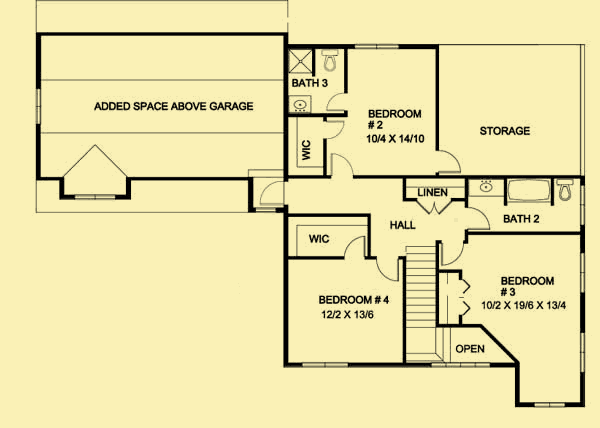door: (432, 146, 466, 177), (339, 232, 368, 263), (439, 237, 468, 267), (463, 205, 493, 233), (414, 196, 456, 216), (329, 151, 357, 180), (257, 180, 286, 207), (374, 253, 401, 281), (323, 88, 348, 112), (322, 118, 347, 141)
large sink: (317, 47, 343, 75), (555, 176, 577, 204)
small sink: (467, 178, 505, 198), (287, 93, 315, 116)
stairs: (401, 242, 454, 364)
tub: (505, 177, 556, 206)
windows: (349, 41, 404, 54), (71, 191, 123, 203), (299, 361, 353, 372), (529, 398, 567, 412), (576, 249, 587, 296), (33, 85, 45, 128), (578, 329, 588, 375)
